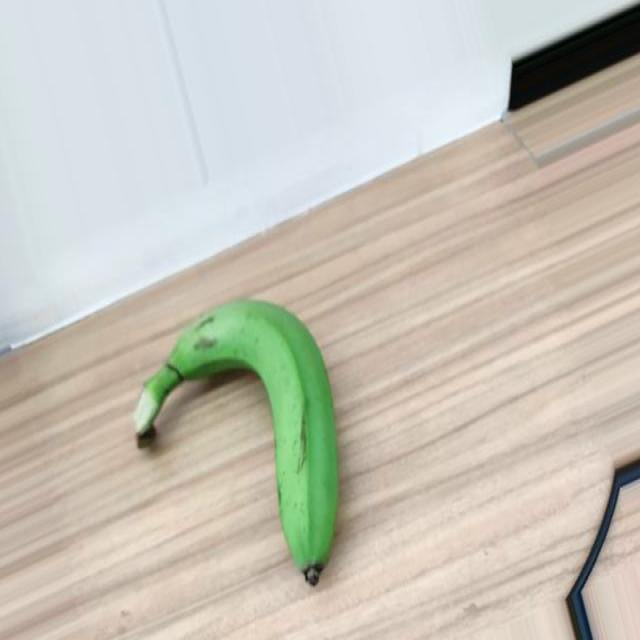Unripe: (130, 298, 338, 590)
